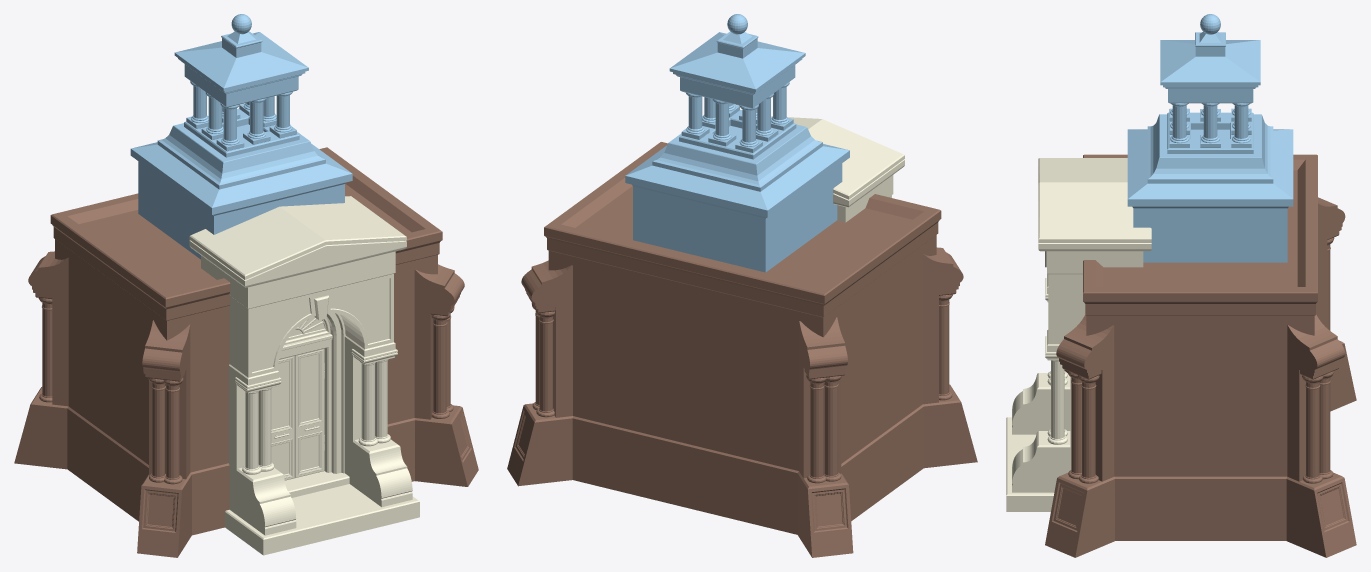
The model's file is Mausoleum N240618.obj.
3 renders of one model, left to right at view 1: azimuth 30°, elevation 25°; view 2: azimuth 150°, elevation 25°; view 3: azimuth 270°, elevation 25°, orthographic. The views are drawn at different scales.
Parts seen in each view (by area): view 1: Outerwall_1_0_0, Doorway_1_0_0, Spire_1_0_0, Doorwayfuneraldr_1_0, Doorwayfuneraldl_1_0; view 2: Outerwall_1_0_0, Spire_1_0_0, Doorway_1_0_0; view 3: Outerwall_1_0_0, Spire_1_0_0, Doorway_1_0_0.
Part boxes in pixels (x1,y1,x2,y2): Outerwall_1_0_0: [14, 147, 478, 557]; Doorway_1_0_0: [189, 196, 419, 555]; Spire_1_0_0: [130, 14, 352, 259]; Doorwayfuneraldr_1_0: [294, 348, 324, 477]; Doorwayfuneraldl_1_0: [271, 356, 294, 480]; Outerwall_1_0_0: [507, 142, 977, 557]; Spire_1_0_0: [625, 14, 849, 272]; Doorway_1_0_0: [771, 116, 904, 222]; Outerwall_1_0_0: [1045, 154, 1356, 557]; Spire_1_0_0: [1127, 14, 1293, 262]; Doorway_1_0_0: [1006, 158, 1151, 511].
Size of the model in its own units: 49.44 by 61.97 by 42.99.
